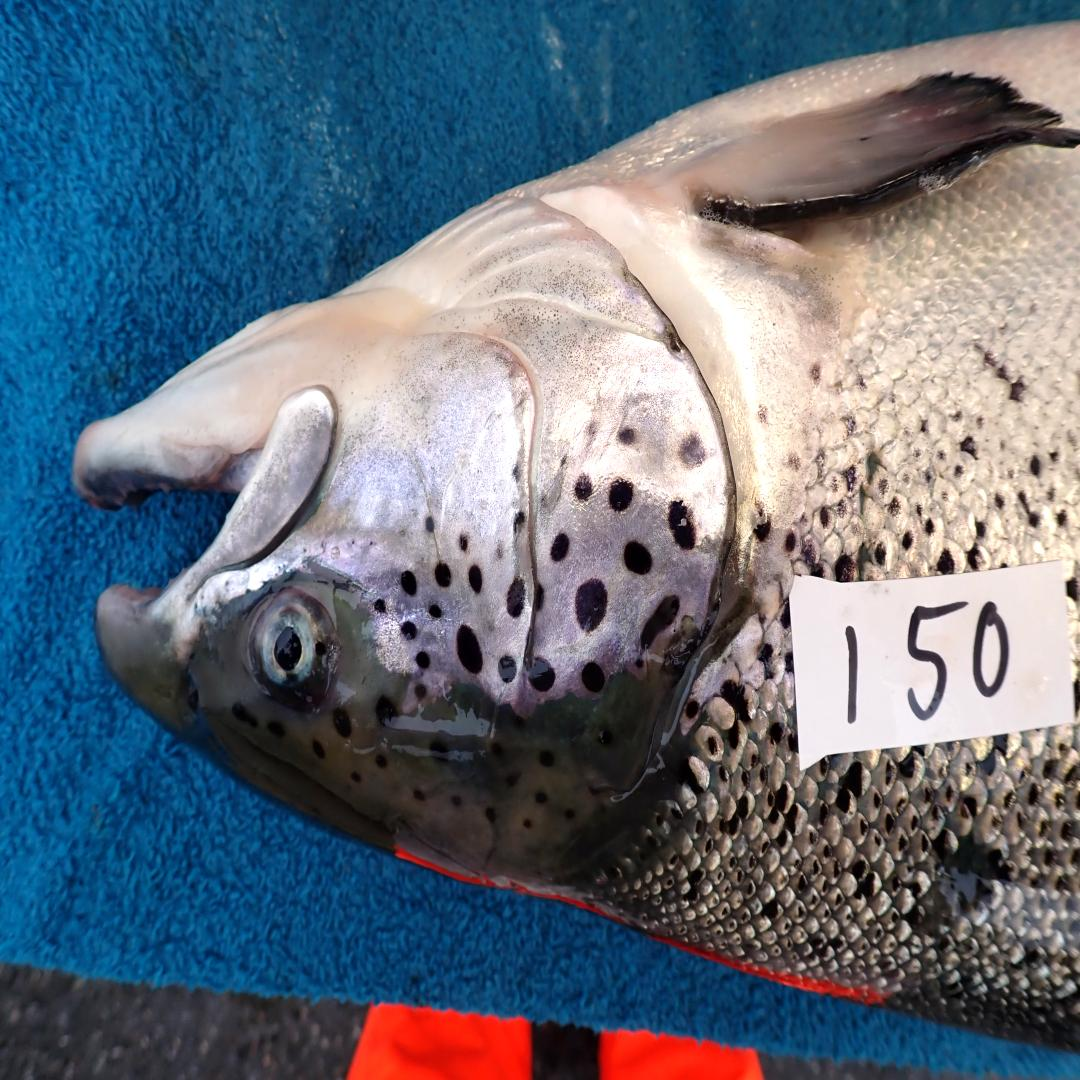roi: (336, 188, 732, 716)
